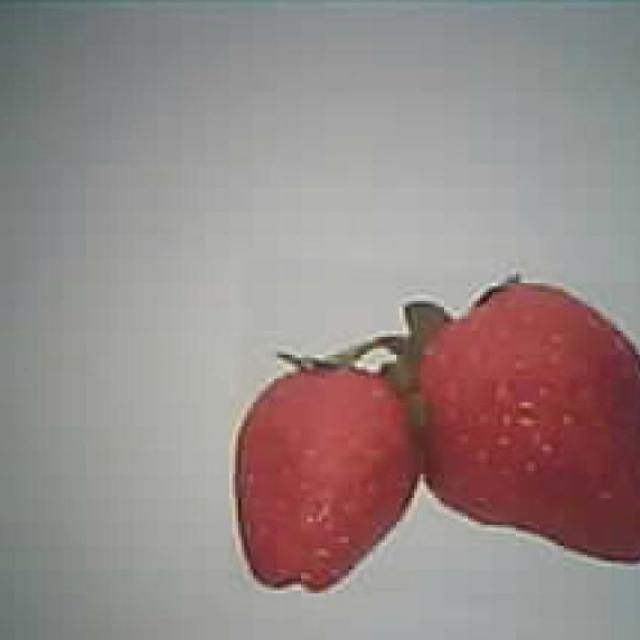Healthy Fruit: (416, 275, 638, 563), (236, 366, 418, 584)
